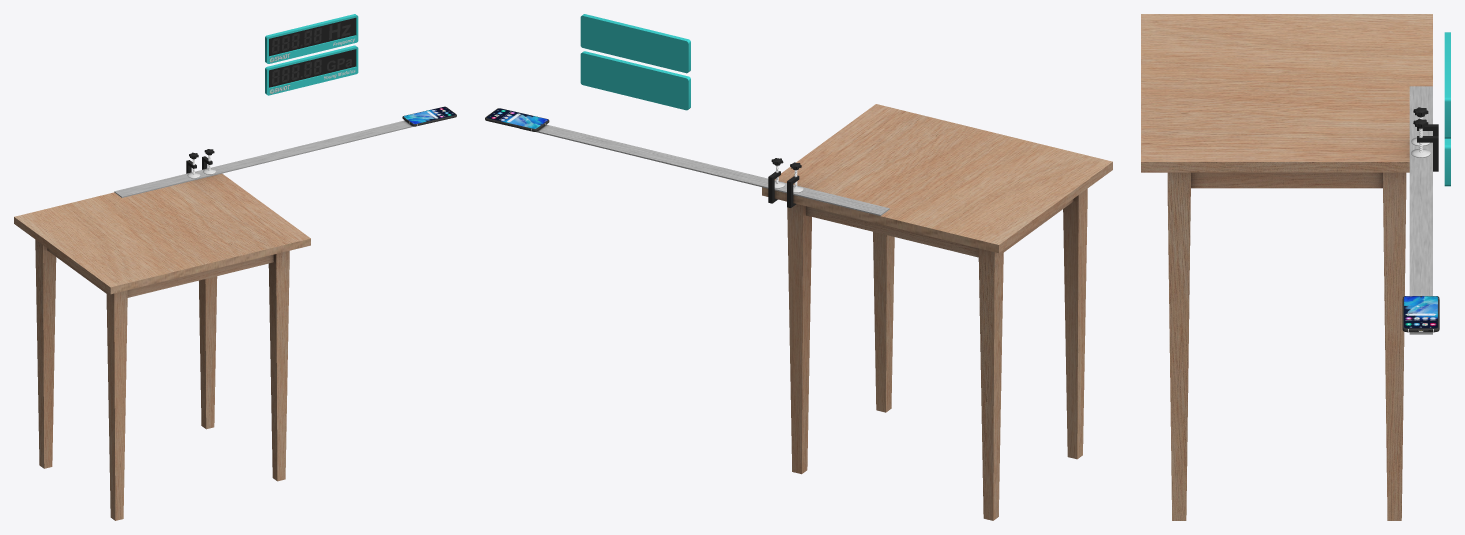
The model's file is Aluminum_bar_30cm_70cm.glb.
3 renders of one model, left to right at view 1: azimuth 30°, elevation 25°; view 2: azimuth 150°, elevation 25°; view 3: azimuth 270°, elevation 25°, orthographic. The views are drawn at different scales.
Parts seen in each view (by area): view 1: MESA, PASAMANO-ALUMINIO_30_70, CAJA DISPLAY GPa, CAJA DISPLAY Hz, SMARTPHONE_30_70; view 2: MESA, CAJA DISPLAY GPa, CAJA DISPLAY Hz, PASAMANO-ALUMINIO_30_70, SMARTPHONE_30_70; view 3: MESA, PASAMANO-ALUMINIO_30_70, SMARTPHONE_30_70, CAJA DISPLAY Hz.
Part boxes in pixels (left/top/right/bottom): MESA: left=14, top=173, right=310, bottom=520; PASAMANO-ALUMINIO_30_70: left=114, top=120, right=413, bottom=197; CAJA DISPLAY GPa: left=265, top=45, right=358, bottom=95; CAJA DISPLAY Hz: left=265, top=14, right=358, bottom=63; SMARTPHONE_30_70: left=402, top=106, right=456, bottom=126; MESA: left=762, top=104, right=1112, bottom=520; CAJA DISPLAY GPa: left=580, top=51, right=690, bottom=110; CAJA DISPLAY Hz: left=580, top=14, right=690, bottom=73; PASAMANO-ALUMINIO_30_70: left=536, top=124, right=889, bottom=215; SMARTPHONE_30_70: left=485, top=108, right=549, bottom=131; MESA: left=1141, top=14, right=1432, bottom=520; PASAMANO-ALUMINIO_30_70: left=1409, top=86, right=1432, bottom=334; SMARTPHONE_30_70: left=1402, top=296, right=1439, bottom=332; CAJA DISPLAY Hz: left=1444, top=32, right=1450, bottom=138.
Bounding box in the file's own units: 1.3 × 1.03 × 0.531.
Materials: 94 (5 with a texture image).
